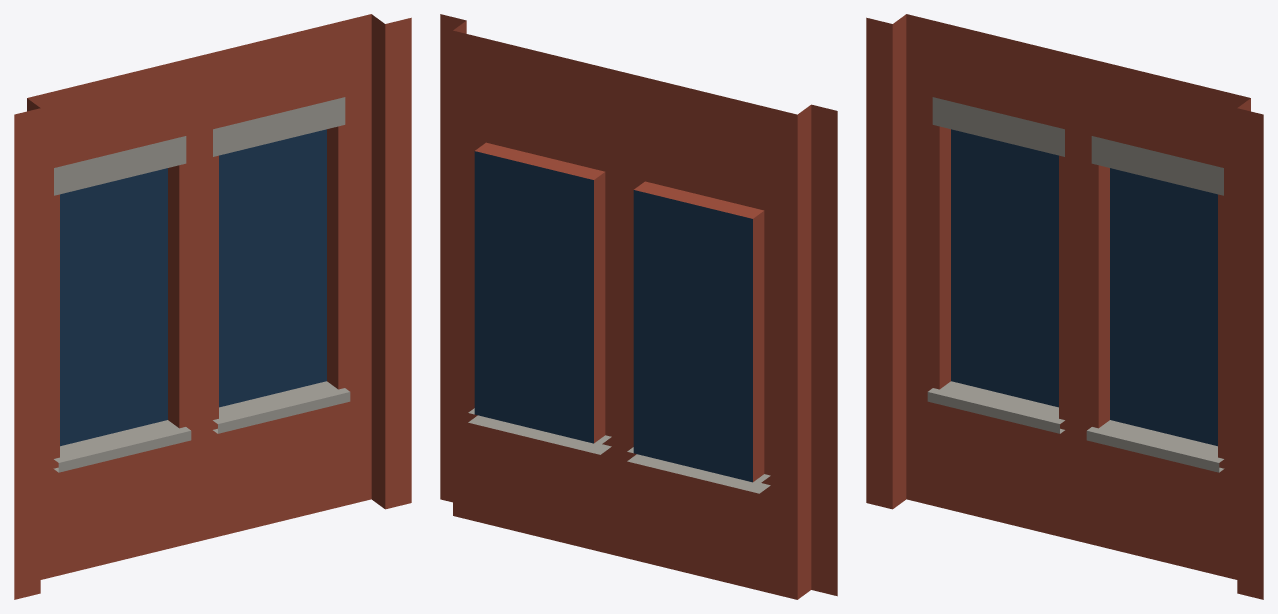
Rendered from mid-w1.fbx.
3 renders of one model, left to right at view 1: azimuth 30°, elevation 25°; view 2: azimuth 150°, elevation 25°; view 3: azimuth 330°, elevation 25°, orthographic.
Visible parts, largest first — view 1: a2012/600/mid-w1; view 2: a2012/600/mid-w1; view 3: a2012/600/mid-w1.
Part boxes in pixels (bbox=[...]): a2012/600/mid-w1: bbox=[14, 14, 411, 599]; a2012/600/mid-w1: bbox=[440, 14, 837, 599]; a2012/600/mid-w1: bbox=[866, 14, 1263, 599].
Bounding box in the file's own units: 3 × 3.5 × 0.33.
